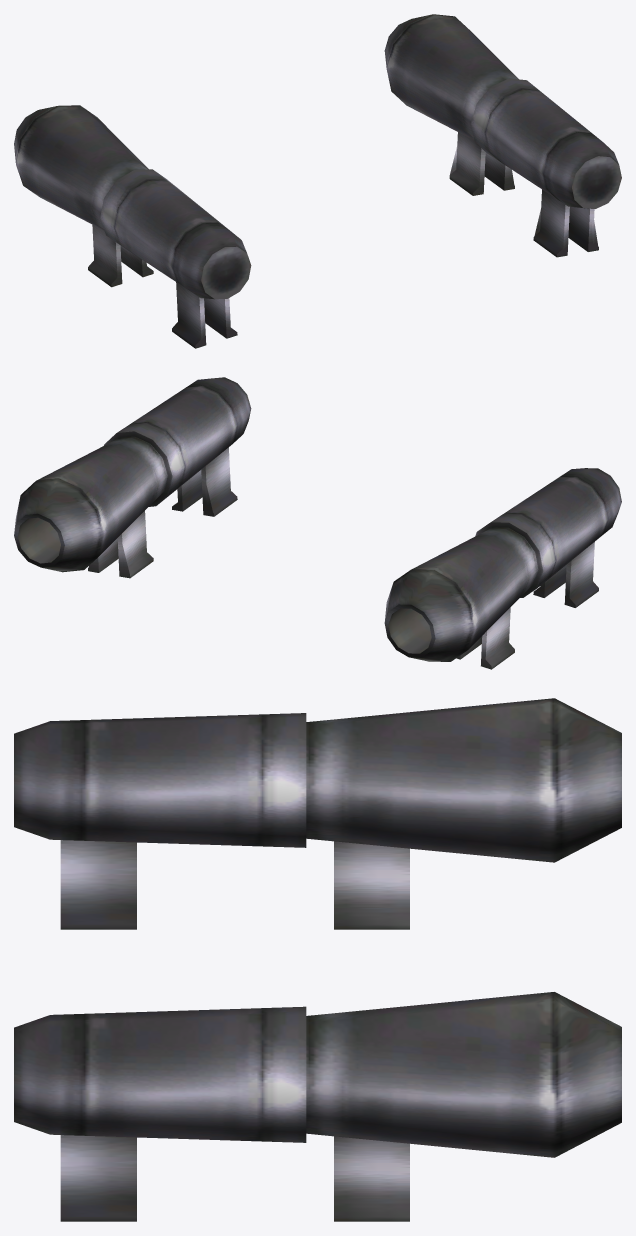
The model's file is awing_booster_s02_l0.fbx.
3 views of the same model, one above another, from view 1: azimuth 30°, elevation 25°; view 2: azimuth 150°, elevation 25°; view 3: azimuth 270°, elevation 25° (orthographic). The views are drawn at different scales.
Visible parts, largest first — view 1: mesh_node; view 2: mesh_node; view 3: mesh_node.
Part boxes in pixels (x1,y1,x2,y2): mesh_node: (14,14,621,348); mesh_node: (14,377,621,669); mesh_node: (14,698,621,1221).
Size of the model in its own units: 3.73 by 0.9974 by 2.63.
Materials: 1 (1 with a texture image).
